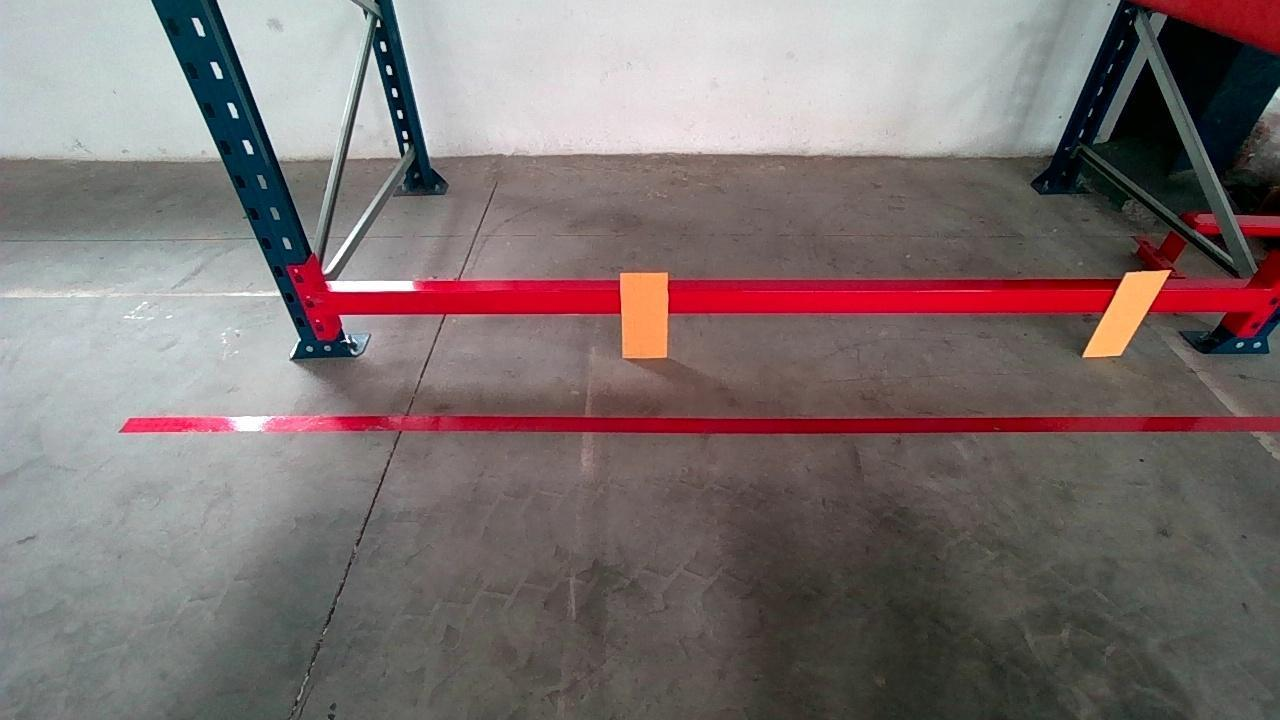h_rack: (328, 275, 1259, 320)
orange_strip: (1085, 272, 1169, 355), (621, 272, 669, 357)
red_line: (115, 414, 1279, 435)
